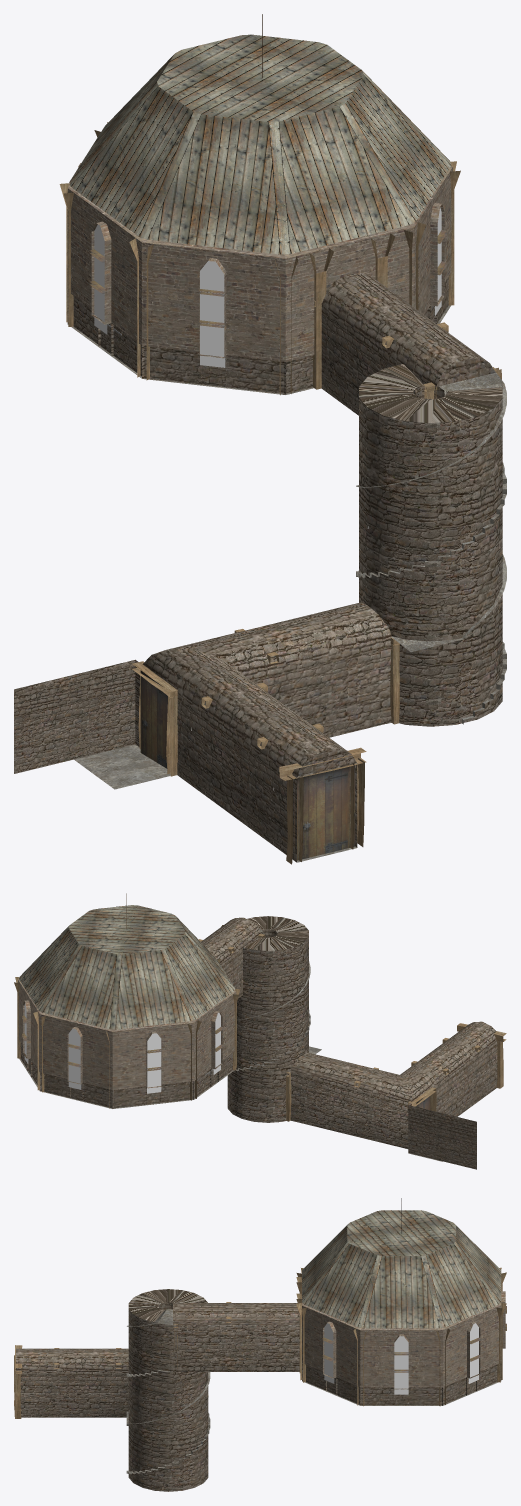
Rendered from thief_env_01.FBX.
3 renders of one model, top to bottom at view 1: azimuth 30°, elevation 25°; view 2: azimuth 150°, elevation 25°; view 3: azimuth 270°, elevation 25°, orthographic. The views are drawn at different scales.
Parts seen in each view (by area): view 1: Cylinder003, Plane094, Plane093, Object018, Object029, Object009, Sphere001, Plane092, Box037, Box023, Box040, Plane046 (+2 smaller); view 2: Cylinder003, Plane093, Plane094, Object004, Object005, Object013, Box018, Box041; view 3: Cylinder003, Plane094, Plane093, Object007, Object008, Plane092, Object006, Box018, Box021, Plane046, Box040.
Boxes of the visible parts, x1=… form: Cylinder003: x1=67, y1=34, x2=452, y2=394; Plane094: x1=321, y1=273, x2=502, y2=726; Plane093: x1=14, y1=602, x2=391, y2=862; Object018: x1=294, y1=765, x2=354, y2=860; Object029: x1=74, y1=722, x2=391, y2=862; Object009: x1=200, y1=261, x2=225, y2=367; Sphere001: x1=140, y1=670, x2=167, y2=768; Plane092: x1=356, y1=372, x2=506, y2=652; Box037: x1=309, y1=248, x2=333, y2=389; Box023: x1=138, y1=675, x2=177, y2=776; Box040: x1=350, y1=757, x2=364, y2=849; Plane046: x1=356, y1=473, x2=506, y2=724; Cylinder003: x1=18, y1=905, x2=236, y2=1108; Plane093: x1=290, y1=1021, x2=497, y2=1169; Plane094: x1=201, y1=916, x2=308, y2=1122; Object004: x1=147, y1=1033, x2=161, y2=1093; Object005: x1=68, y1=1028, x2=81, y2=1089; Object013: x1=21, y1=1015, x2=223, y2=1070; Box018: x1=33, y1=1011, x2=45, y2=1092; Box041: x1=497, y1=1040, x2=503, y2=1088; Cylinder003: x1=302, y1=1210, x2=505, y2=1405; Plane094: x1=128, y1=1289, x2=299, y2=1491; Plane093: x1=16, y1=1348, x2=128, y2=1417; Object007: x1=394, y1=1336, x2=408, y2=1394; Object008: x1=324, y1=1323, x2=334, y2=1383; Plane092: x1=126, y1=1309, x2=210, y2=1425; Object006: x1=468, y1=1323, x2=478, y2=1383; Box018: x1=493, y1=1302, x2=506, y2=1382; Box021: x1=296, y1=1303, x2=306, y2=1382; Plane046: x1=126, y1=1371, x2=210, y2=1474; Box040: x1=14, y1=1369, x2=21, y2=1418.
Size of what is drawn, in the model's own units: 1979 by 1643 by 2551.
